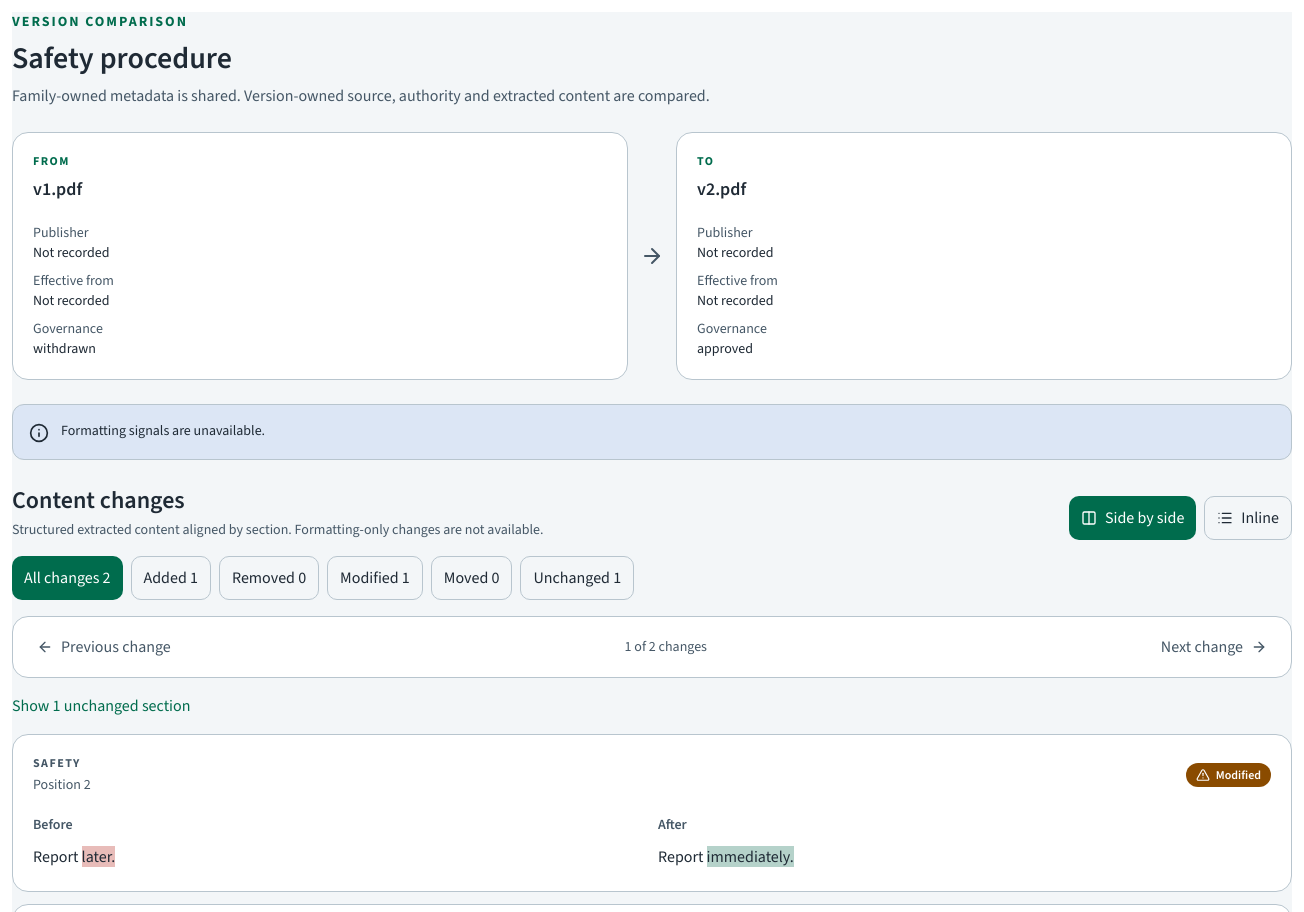
DocumentComparisonView › shows change counts, filters and collapsed unchanged context
Expected: the button "All changes 2" is shown, left=12, top=556, right=122, bottom=600
Expected: the button "Modified 1" is shown, left=327, top=556, right=423, bottom=600
Click the button "Show 1 unchanged section".
click(101, 706)  # box left=12, top=694, right=190, bottom=718
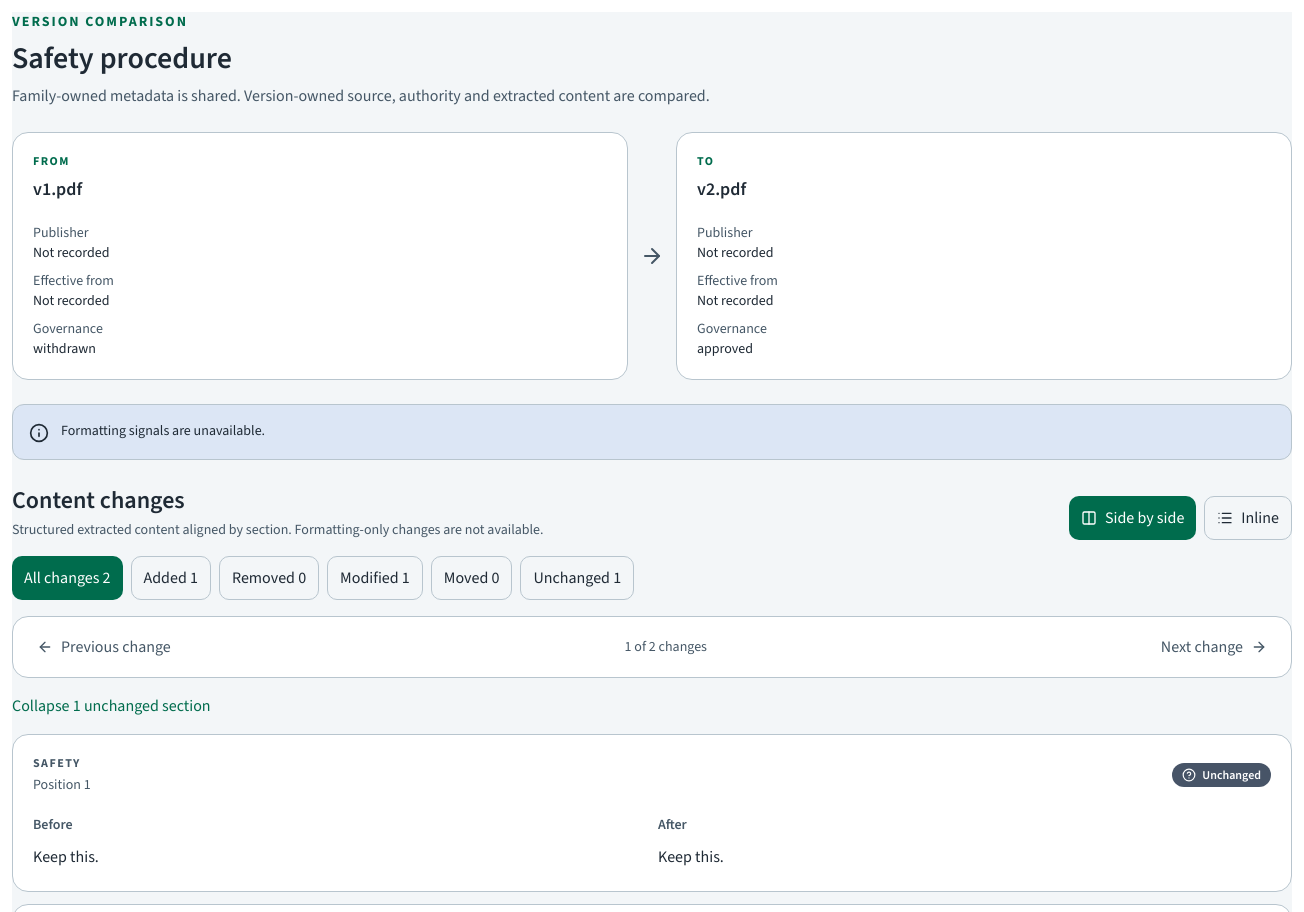
Expected: the text "Keep this." is shown 2 times, left=33, top=846, right=99, bottom=867; left=658, top=846, right=724, bottom=867
